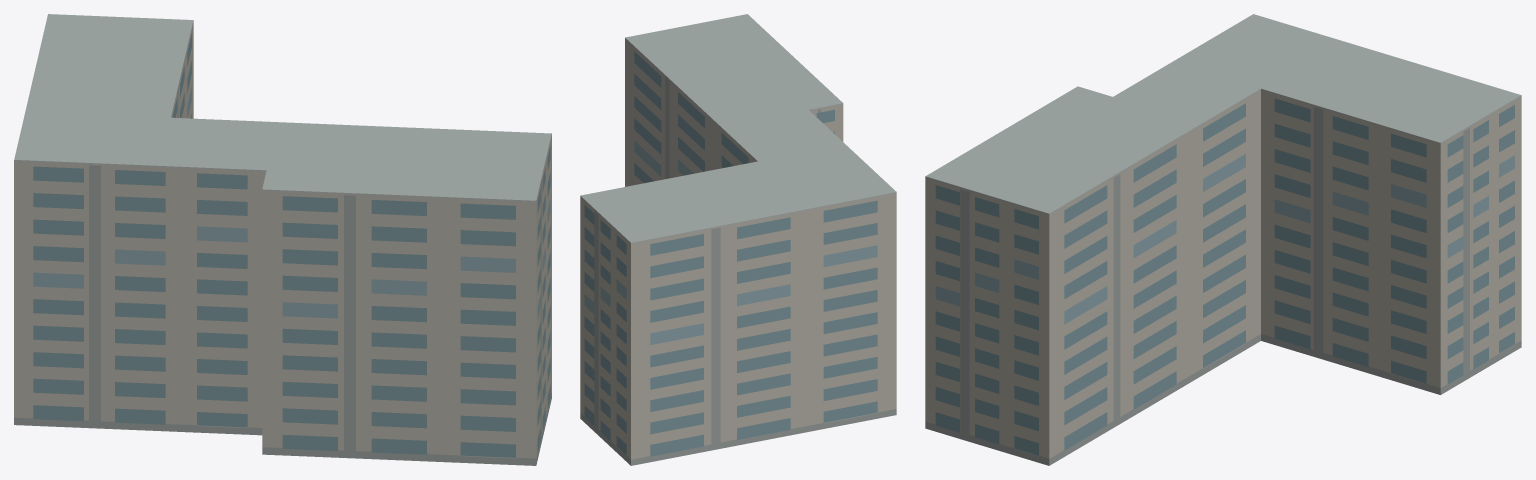
File: residential-c7f2753a-d8cc-452c-afa2-782081cc92b1.glb
The picture shows the model from 3 angles, left to right: view 1: azimuth 30°, elevation 25°; view 2: azimuth 150°, elevation 25°; view 3: azimuth 270°, elevation 25°; orthographic projection. The views are drawn at different scales.
Visible parts, largest first — view 1: residential-c7f2753a-d8cc-452c-afa2-782081cc92b1.tmp; view 2: residential-c7f2753a-d8cc-452c-afa2-782081cc92b1.tmp; view 3: residential-c7f2753a-d8cc-452c-afa2-782081cc92b1.tmp.
Part boxes in pixels (box(x1,y1,x2,y2)): residential-c7f2753a-d8cc-452c-afa2-782081cc92b1.tmp: box(14, 14, 551, 465); residential-c7f2753a-d8cc-452c-afa2-782081cc92b1.tmp: box(580, 14, 896, 465); residential-c7f2753a-d8cc-452c-afa2-782081cc92b1.tmp: box(925, 14, 1521, 465).
Size of the model in its own units: 49.25 by 29 by 62.14.
